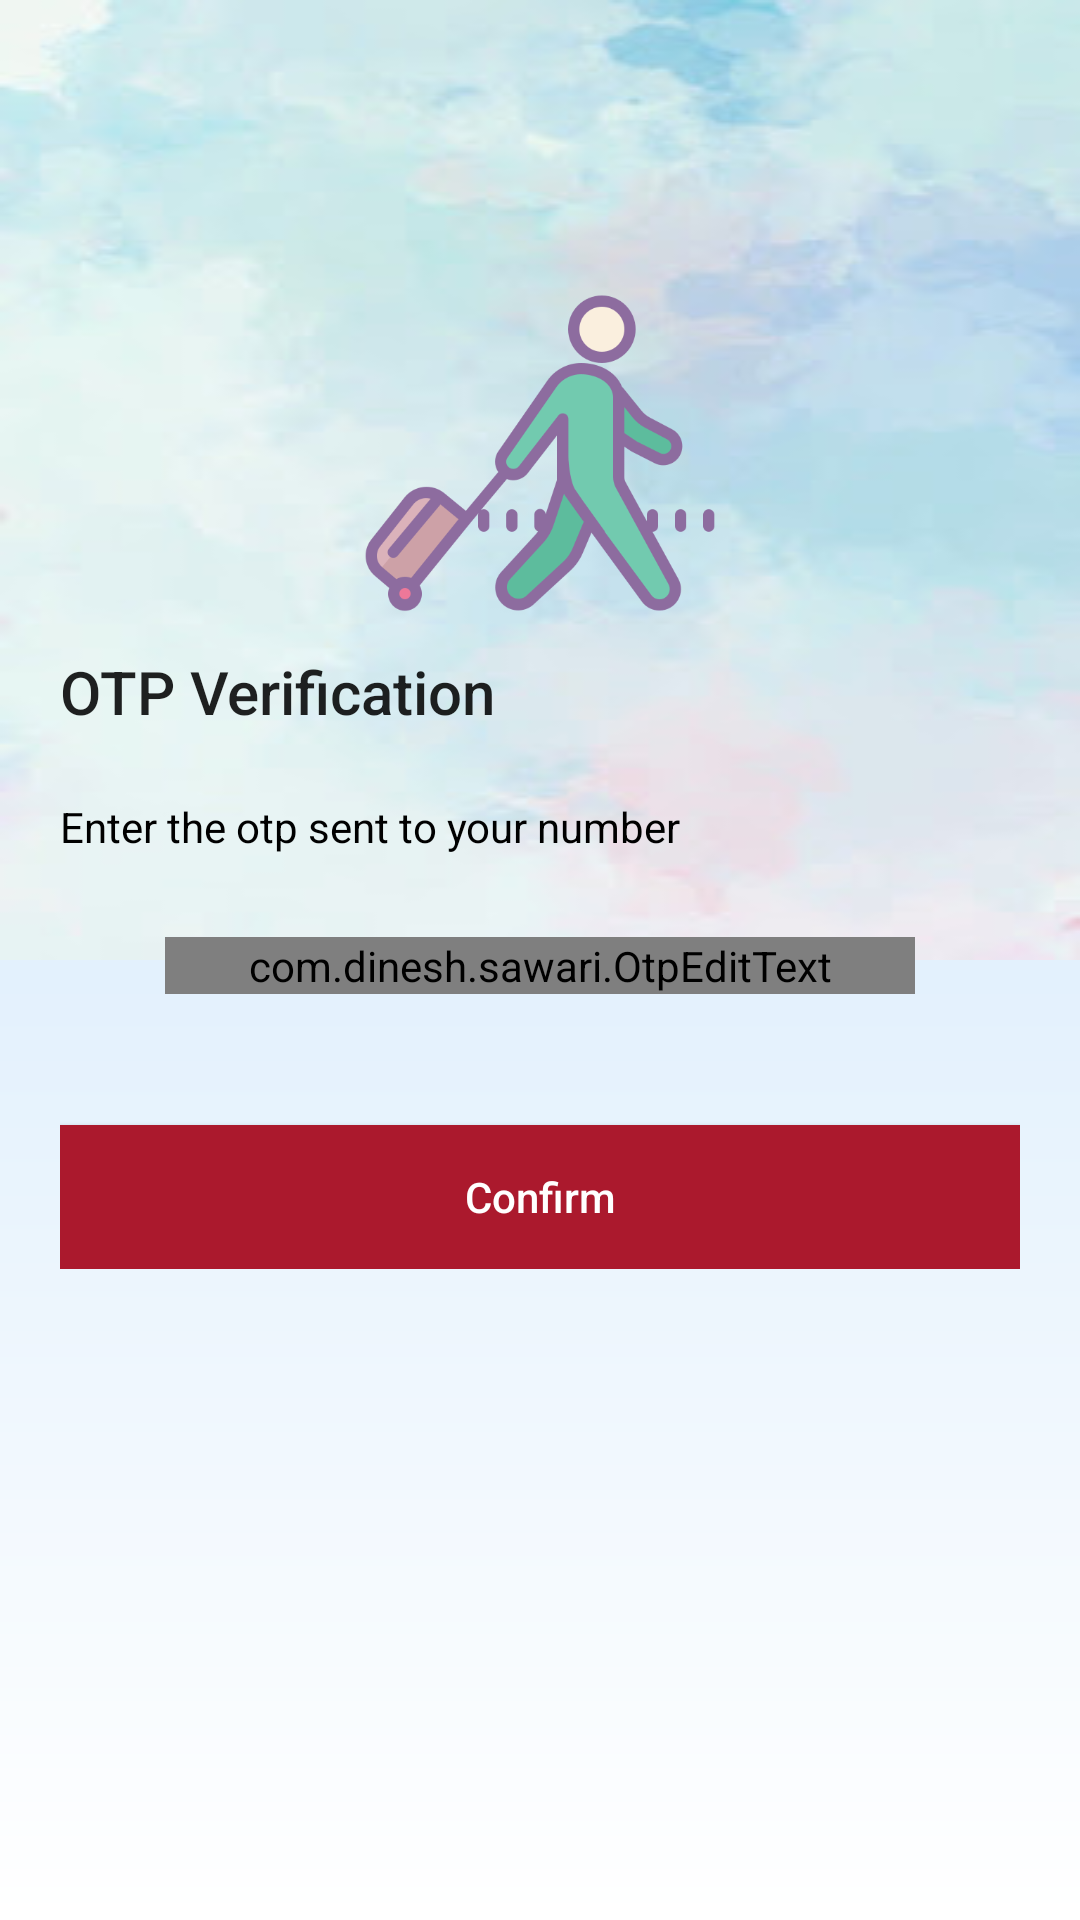

Icons on this 1080w x 1920h Android screen, each with its box as detection(x1, y1, x2, y2):
traveler: detection(365, 276, 720, 611)
